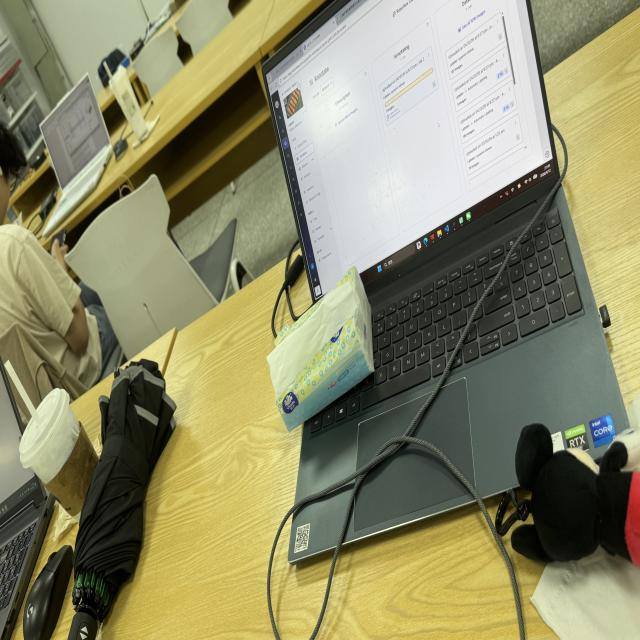mickey: (512, 425, 639, 566)
tissue: (268, 268, 373, 430)
